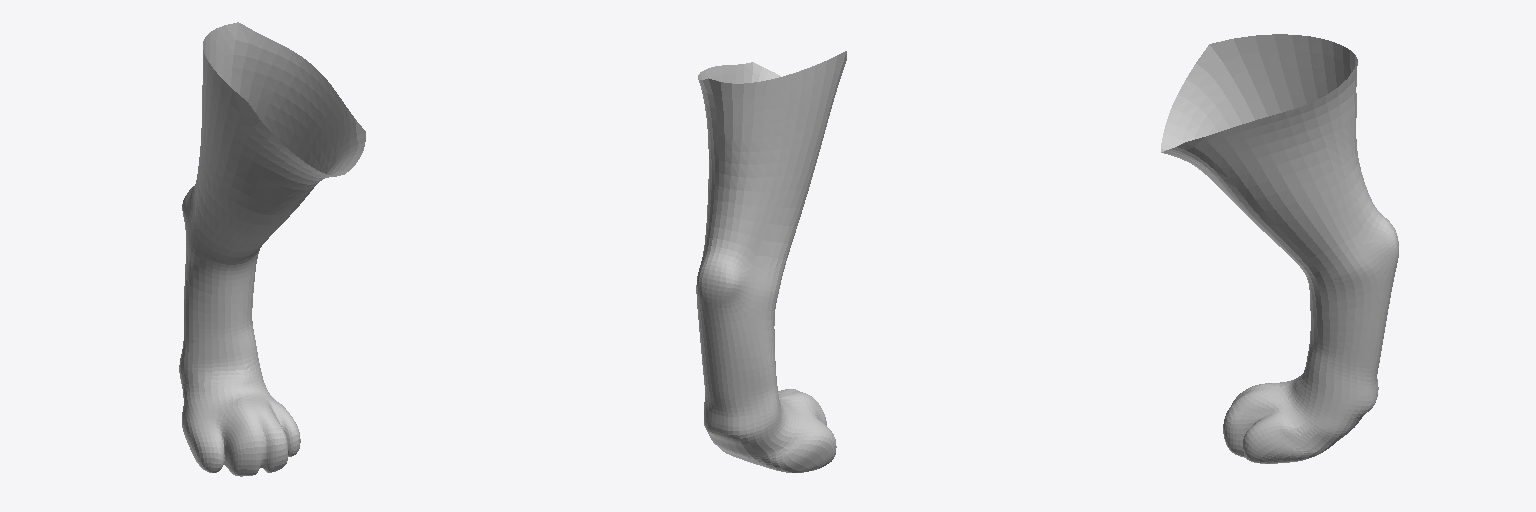
The model's file is pata_trasera_izquierda.obj.
3 renders of one model, left to right at view 1: azimuth 30°, elevation 25°; view 2: azimuth 150°, elevation 25°; view 3: azimuth 270°, elevation 25°, orthographic.
Visible parts, largest first — view 1: 12221_Cat_v1_l3.001; view 2: 12221_Cat_v1_l3.001; view 3: 12221_Cat_v1_l3.001.
Part boxes in pixels (x1,y1,x2,y2): 12221_Cat_v1_l3.001: (179, 22, 365, 476); 12221_Cat_v1_l3.001: (696, 51, 846, 472); 12221_Cat_v1_l3.001: (1161, 34, 1398, 463).
Size of the model in its own units: 5.14 by 15.89 by 8.51.